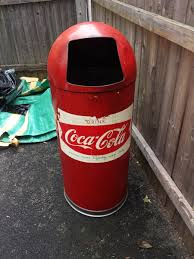Coca-Cola: (66, 129, 126, 154)
